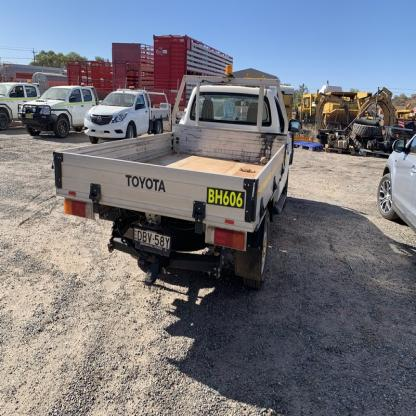light_vehicle: (52, 76, 302, 300)
